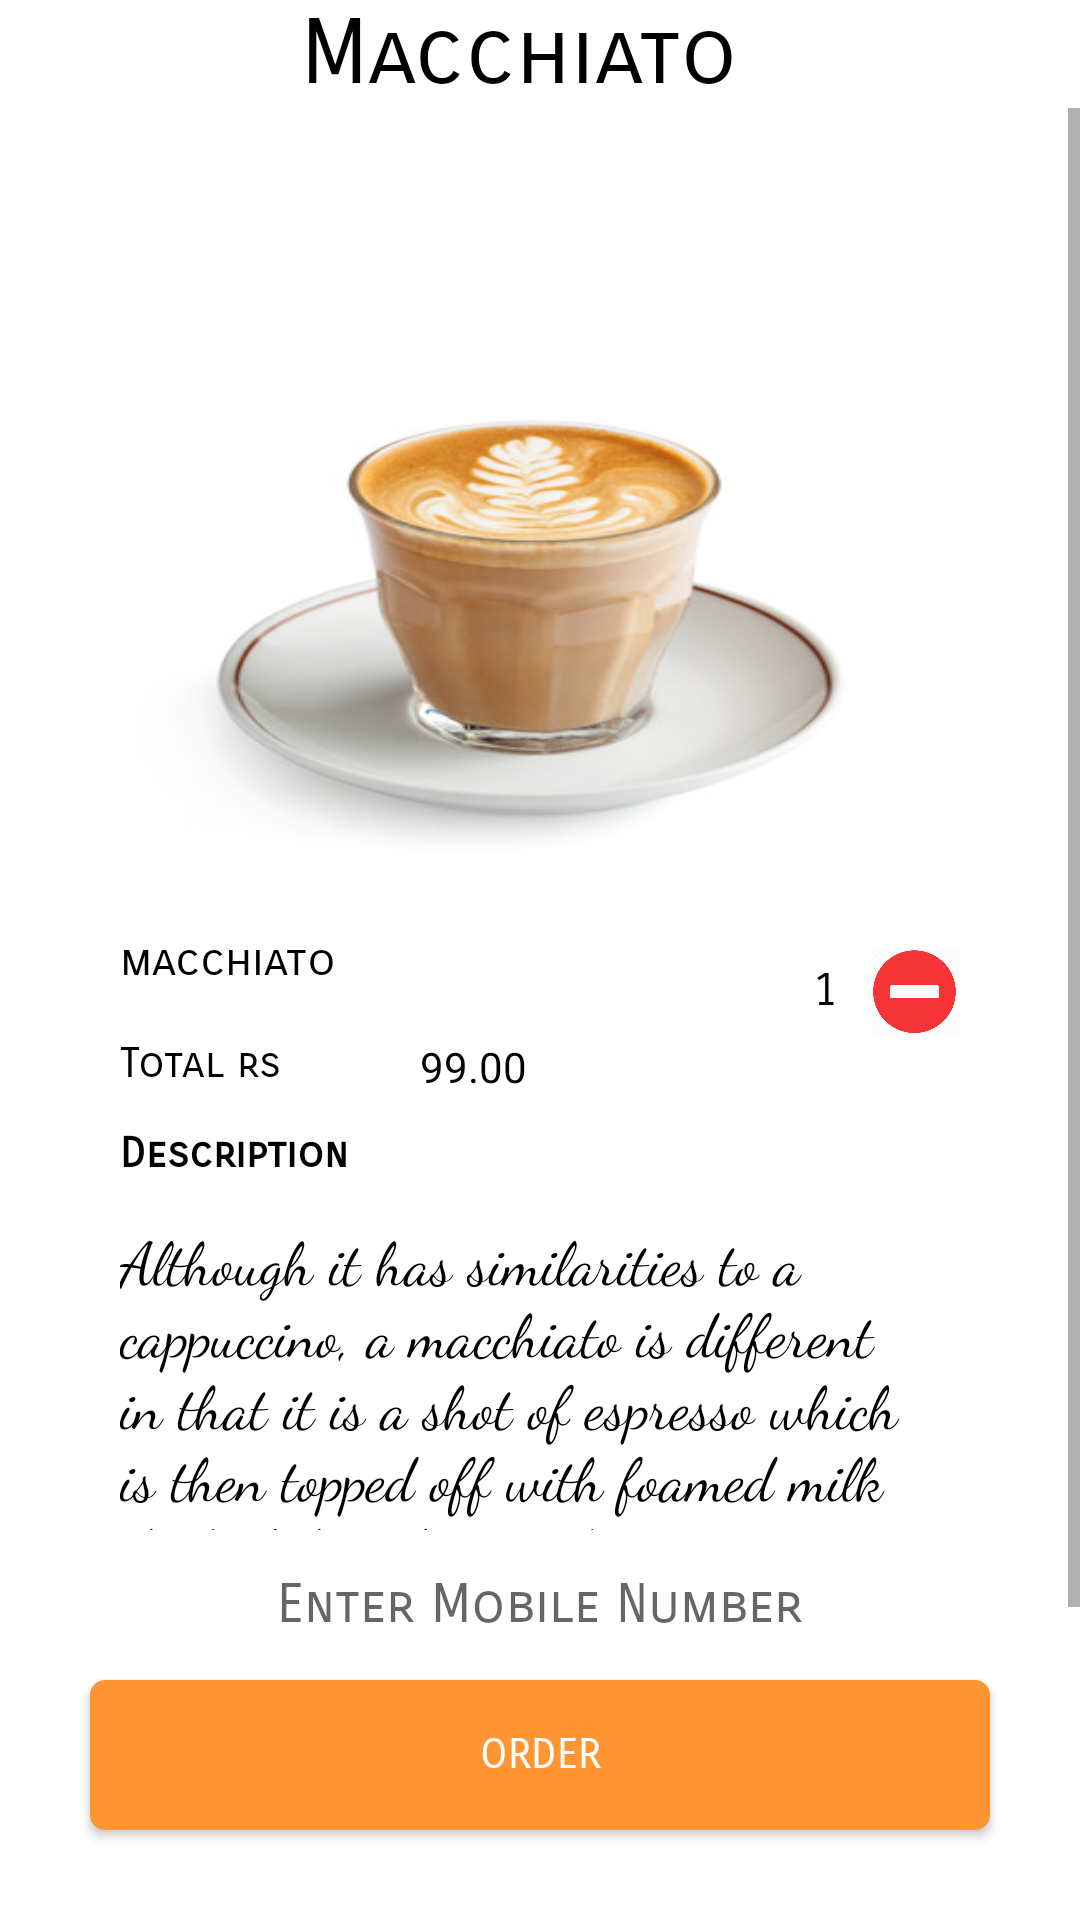

Screen size 1080w x 1920h. Icon name, then its box in pixels as {"x1": x1, "y1": y1, "x2": x2, "y2": y2}:
minus: {"x1": 873, "y1": 950, "x2": 956, "y2": 1033}
